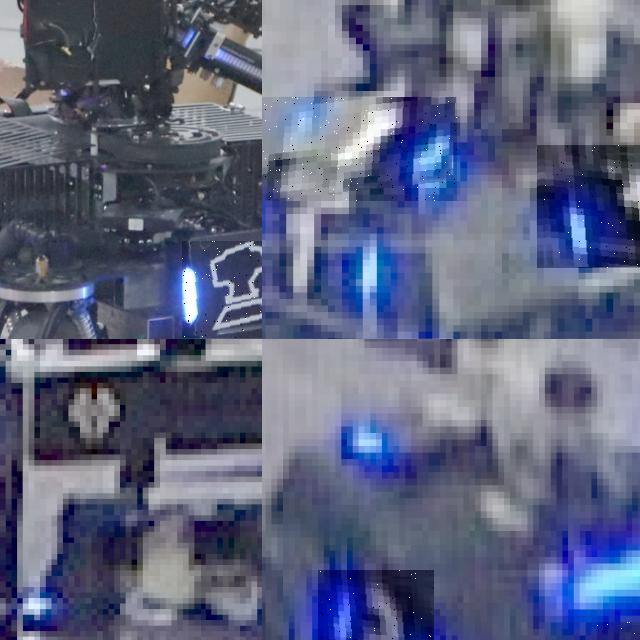B1: (262, 97, 457, 201), (262, 194, 394, 312), (536, 145, 640, 269)
B3: (317, 570, 434, 640)
Bs: (182, 241, 262, 337)
